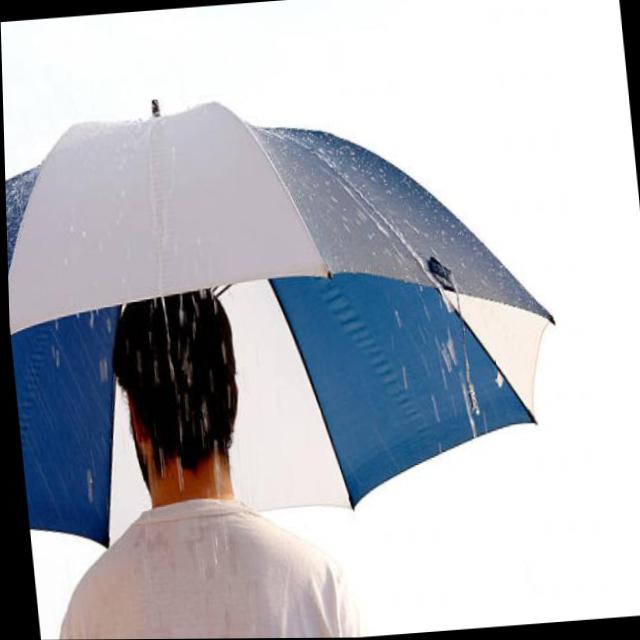no helmet: (109, 288, 248, 510)
